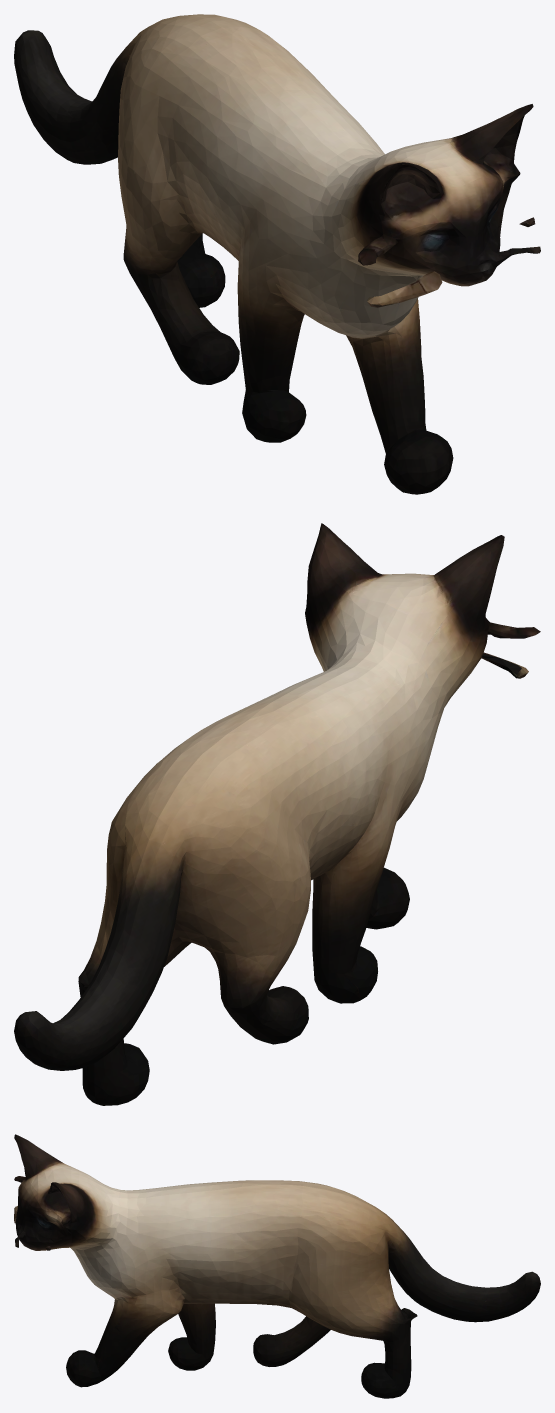
3 views of the same model, one above another, from view 1: azimuth 30°, elevation 25°; view 2: azimuth 150°, elevation 25°; view 3: azimuth 270°, elevation 25° (orthographic). The views are drawn at different scales.
Parts seen in each view (by area): view 1: geometry_0; view 2: geometry_0; view 3: geometry_0.
Part boxes in pixels (x1,y1,x2,y2): geometry_0: (14, 14, 540, 494); geometry_0: (14, 523, 540, 1105); geometry_0: (14, 1134, 540, 1398).
Size of the model in its own units: 0.2623 by 0.4868 by 0.9994.
1 material, 1 textured.
